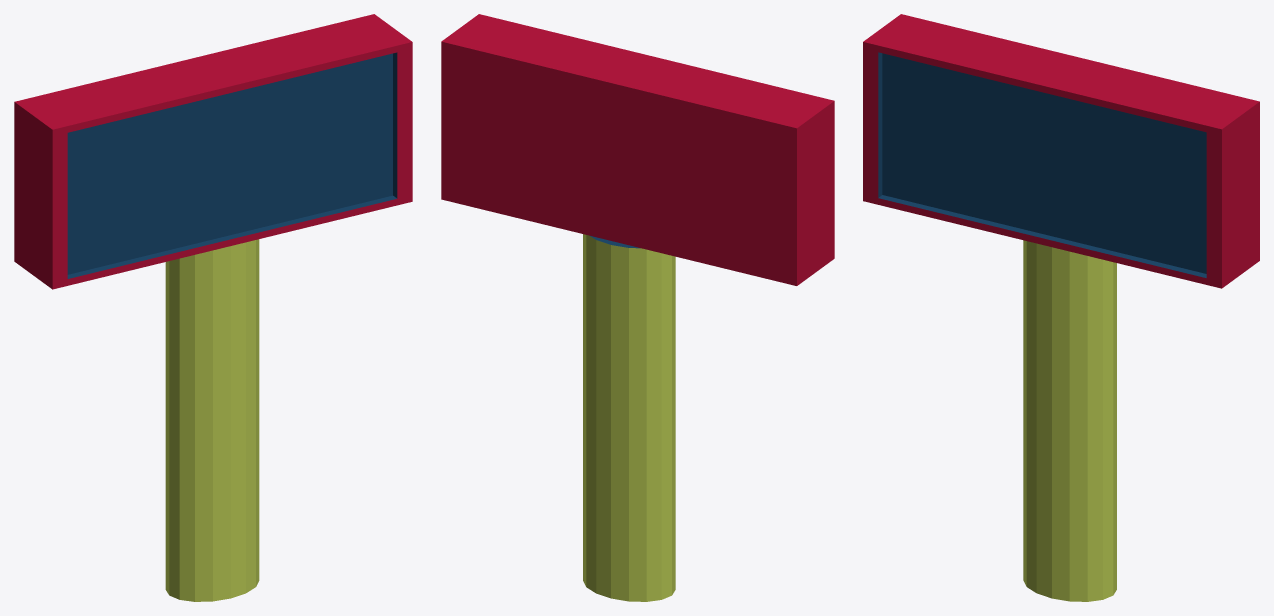
File: Slotnisky_Gabriel_48242293.fbx
3 views of the same model, side by side, from view 1: azimuth 30°, elevation 25°; view 2: azimuth 150°, elevation 25°; view 3: azimuth 330°, elevation 25° (orthographic).
Parts seen in each view (by area): view 1: Cartel; view 2: Cartel; view 3: Cartel.
Boxes of the visible parts, x1,y1,x2,y2 form: Cartel: (14, 14, 412, 601); Cartel: (441, 14, 834, 601); Cartel: (863, 14, 1259, 601).
Size of the model in its own units: 623 by 857 by 127.
1 material, 1 textured.
